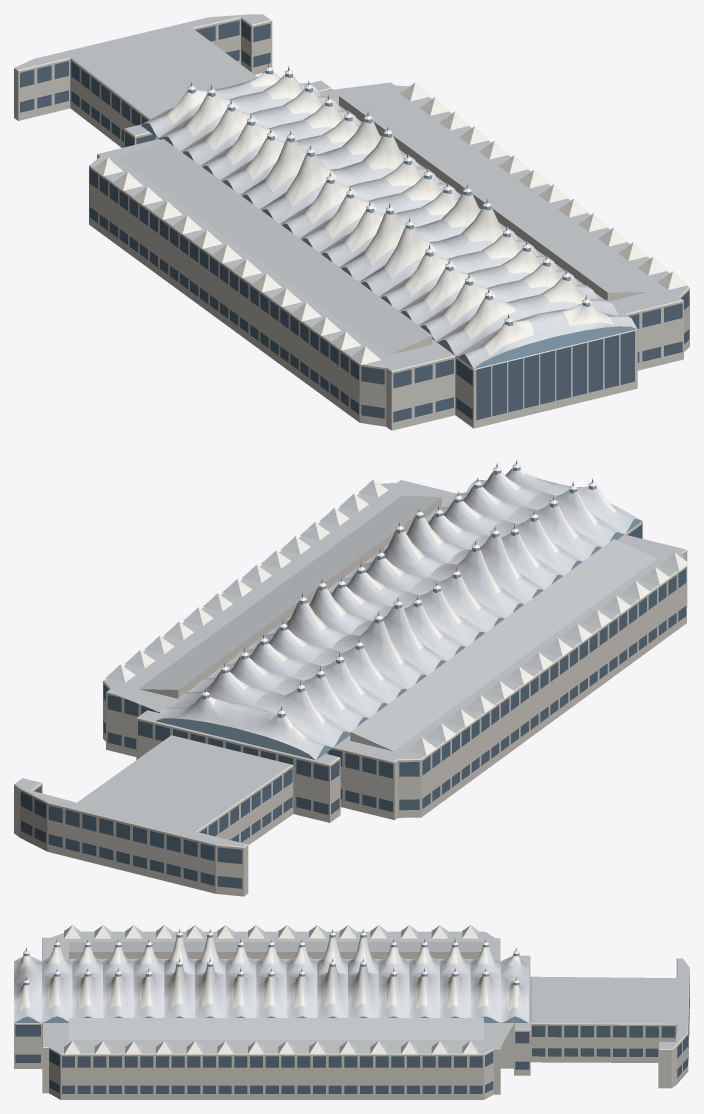
File: den-airport-terminal.glb
3 renders of one model, top to bottom at view 1: azimuth 30°, elevation 25°; view 2: azimuth 150°, elevation 25°; view 3: azimuth 270°, elevation 25°, orthographic. The views are drawn at different scales.
Visible parts, largest first — view 1: Denver International Airport, Jeppesen Terminal; view 2: Denver International Airport, Jeppesen Terminal; view 3: Denver International Airport, Jeppesen Terminal.
Boxes of the visible parts, x1,y1,x2,y2 form: Denver International Airport, Jeppesen Terminal: (14, 14, 689, 430); Denver International Airport, Jeppesen Terminal: (14, 460, 689, 896); Denver International Airport, Jeppesen Terminal: (14, 925, 689, 1099).
Bounding box in the file's own units: 176 × 63 × 407.
